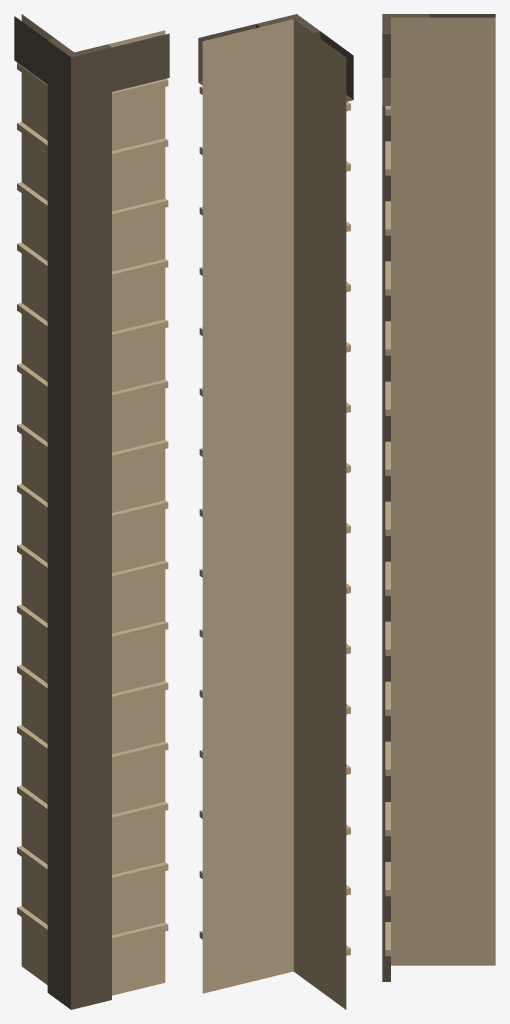
The model's file is mid-c1_close.fbx.
3 views of the same model, side by side, from view 1: azimuth 30°, elevation 25°; view 2: azimuth 210°, elevation 25°; view 3: azimuth 270°, elevation 25° (orthographic).
Visible parts, largest first — view 1: a2015/0/mid-c1_close; view 2: a2015/0/mid-c1_close; view 3: a2015/0/mid-c1_close.
Boxes of the visible parts, x1,y1,x2,y2 form: a2015/0/mid-c1_close: (14, 14, 169, 1009); a2015/0/mid-c1_close: (198, 14, 353, 1009); a2015/0/mid-c1_close: (382, 14, 495, 981).
Bounding box in the file's own units: 0.325 × 3 × 0.325.
